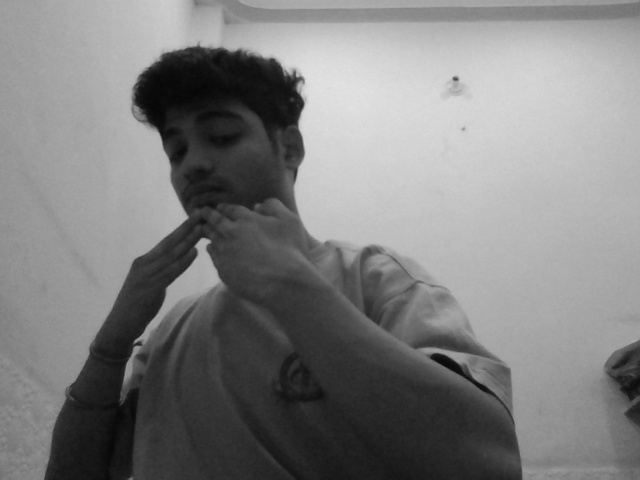Thanks: (99, 179, 361, 330)
